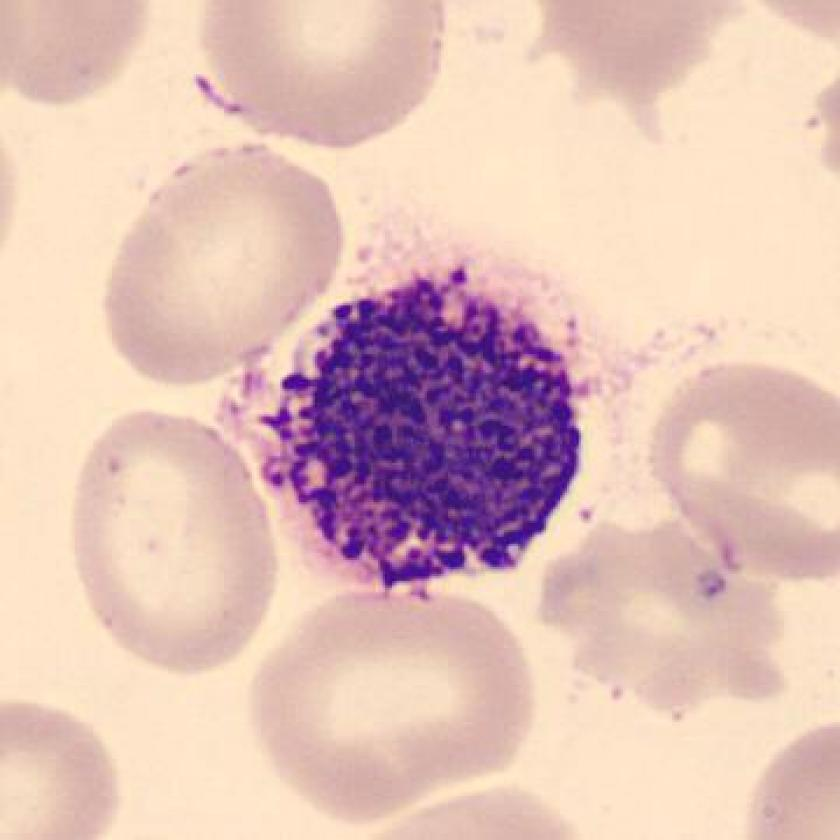basophil: (260, 265, 596, 603)
